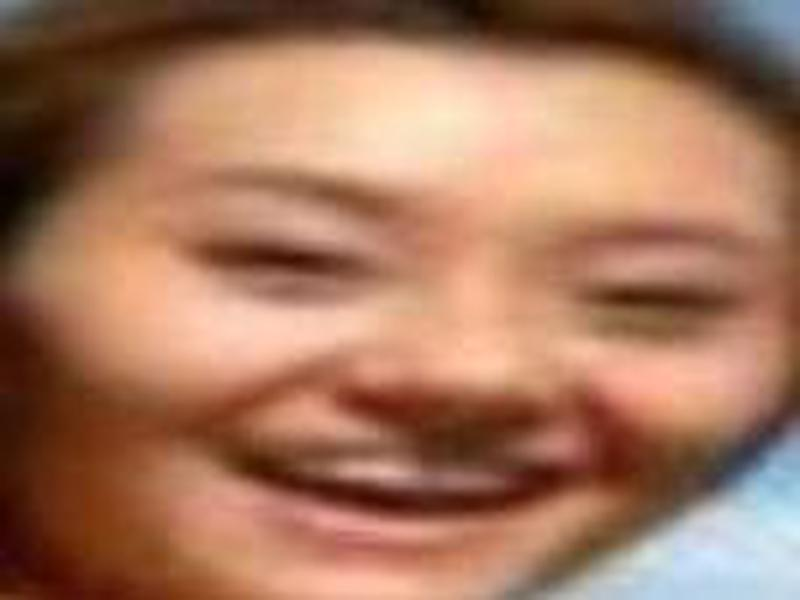without_mask: (23, 72, 800, 600)
